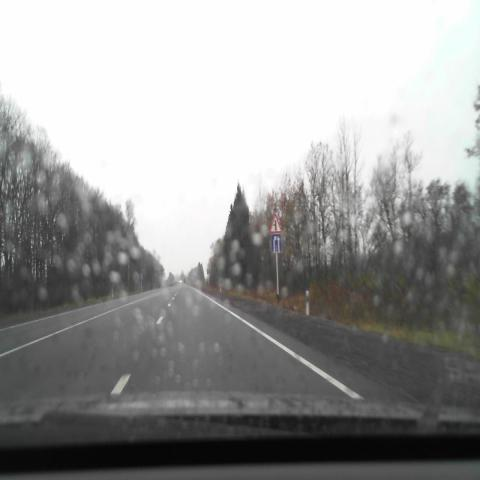2_3_3: (269, 212, 283, 233)
